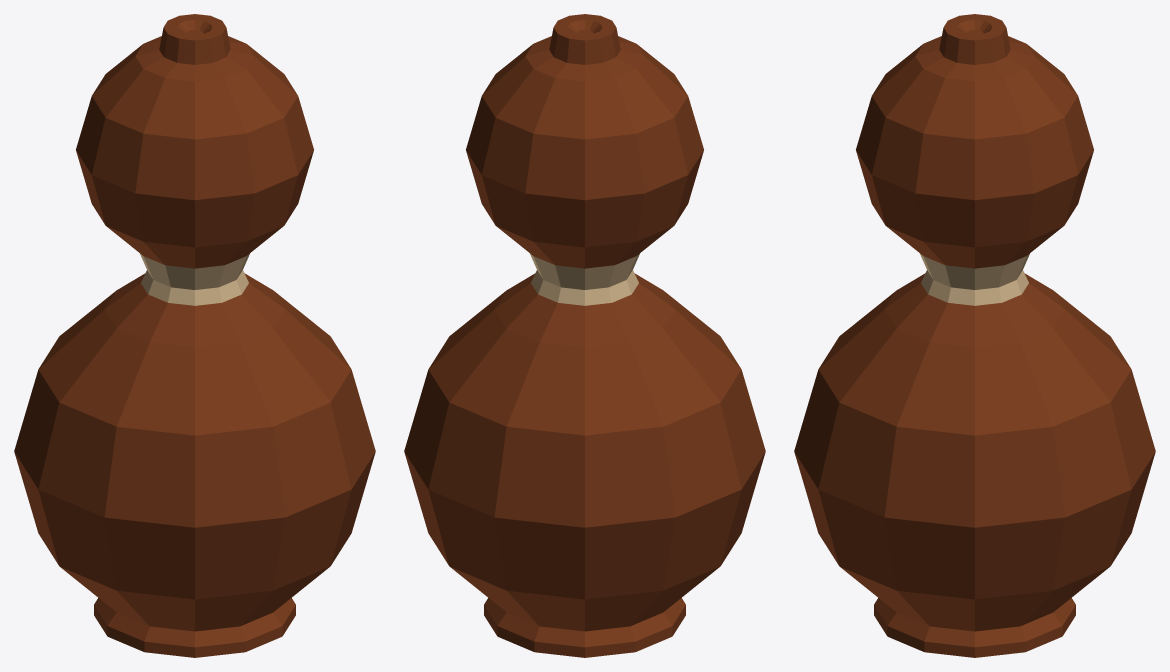
The model's file is Moonwell Water.fbx.
The picture shows the model from 3 angles, left to right: view 1: azimuth 30°, elevation 25°; view 2: azimuth 150°, elevation 25°; view 3: azimuth 270°, elevation 25°; orthographic projection.
Visible parts, largest first — view 1: Sphere; view 2: Sphere; view 3: Sphere.
Part boxes in pixels (left/top/right/bottom): Sphere: left=14, top=14, right=375, bottom=657; Sphere: left=404, top=14, right=765, bottom=657; Sphere: left=794, top=14, right=1155, bottom=657.
Size of the model in its own units: 200 by 359 by 200.
